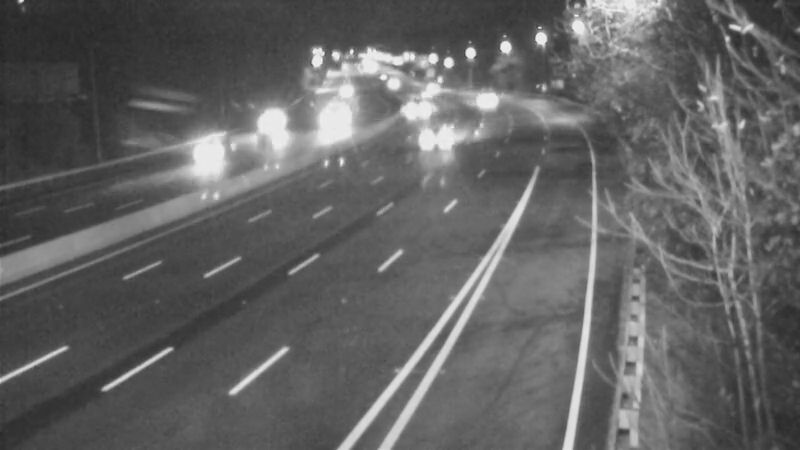vehicle: (161, 123, 241, 203), (362, 59, 412, 109), (406, 63, 456, 113), (400, 71, 450, 121), (455, 76, 505, 126), (396, 79, 446, 129), (412, 112, 462, 162), (250, 104, 300, 154), (303, 101, 353, 151)
